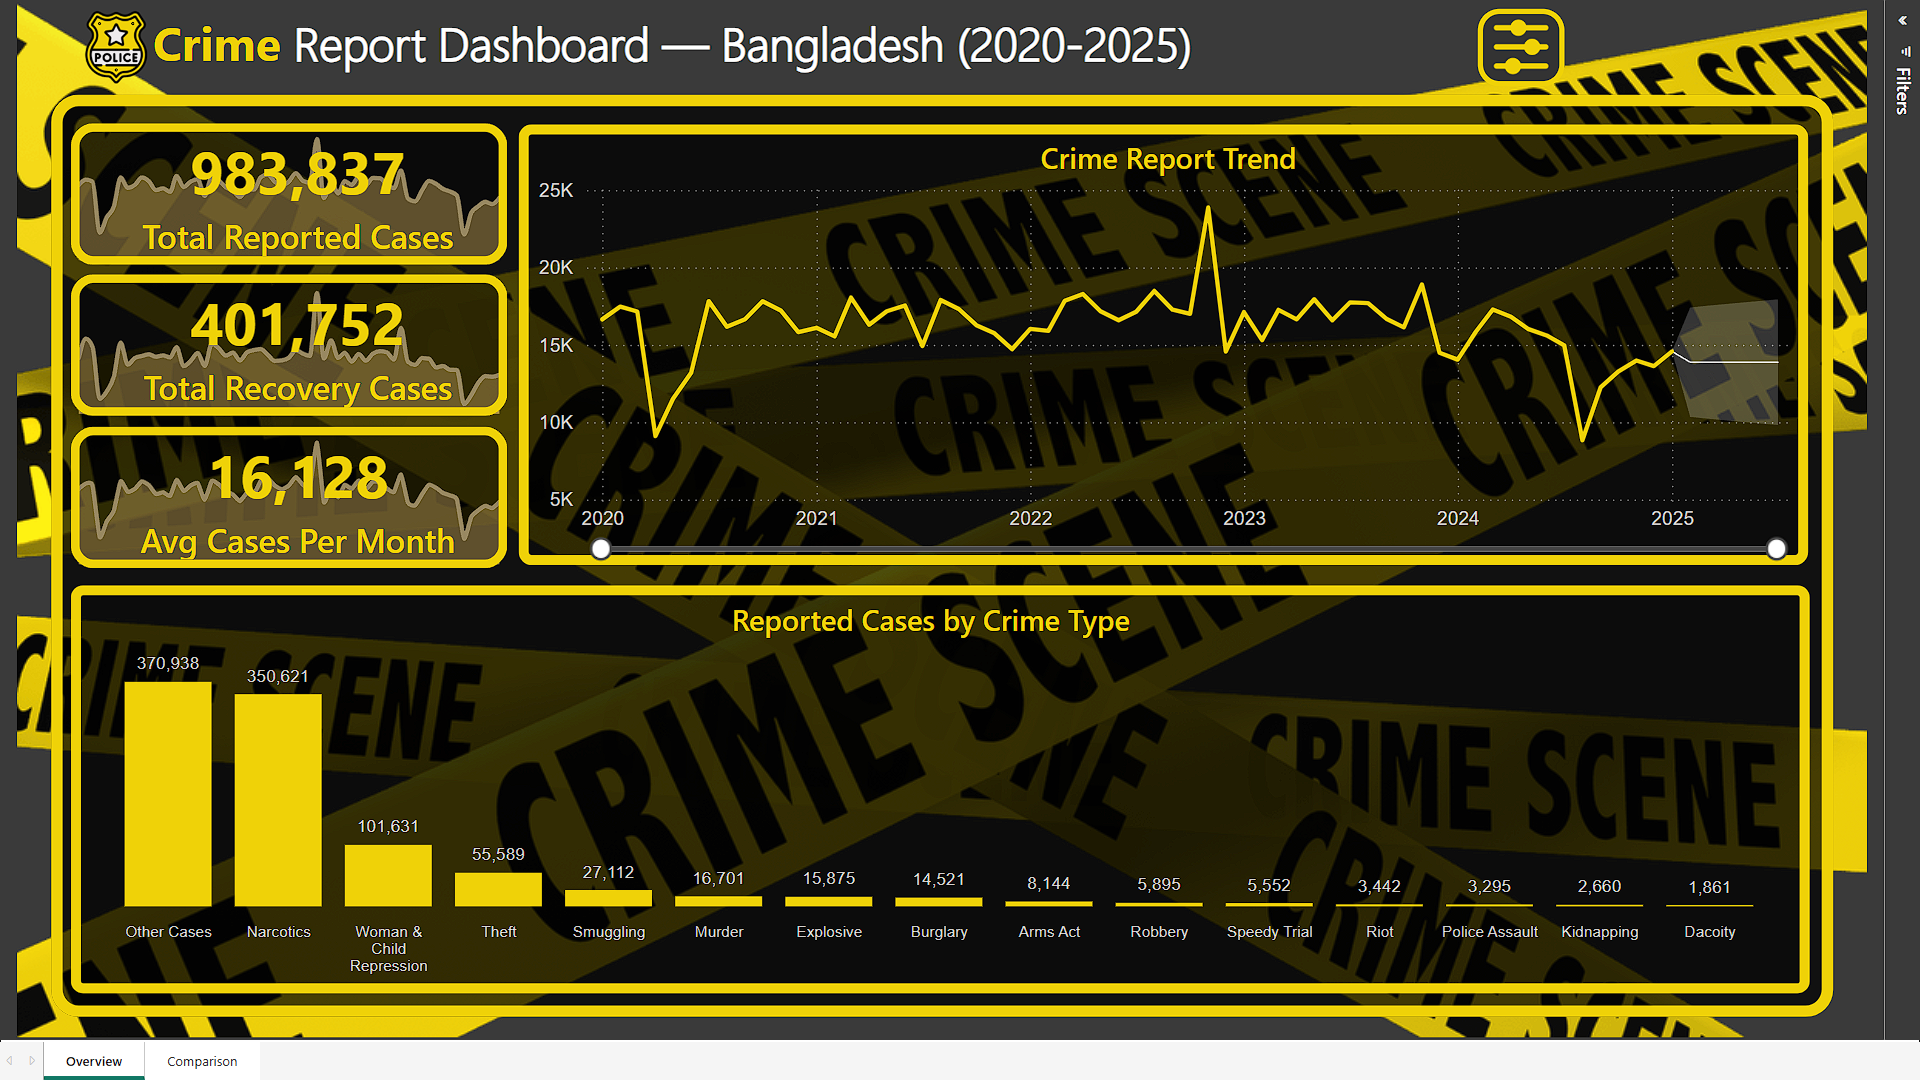

The page's visual inventory and layout, read from the dashboard file:
{"tool":"powerbi","page":{"name":"Overview","canvas":[1280,720],"ordinal":0},"visuals":[{"type":"group","id":"g1","title":"Group 1","box":[89.5,2.5,740,57.3],"z":0,"group":"g2"},{"type":"textbox","box":[89.5,2.5,740,57.3],"z":0,"group":"g1"},{"type":"shape","box":[23.3,65.8,1233.3,638.3],"z":0},{"type":"image","box":[37.5,2.6,62.2,60.6],"z":1000,"group":"g2"},{"type":"areaChart","fields":{"Category":["Date Table.Start of Month.Variation.Date Hierarchy.Year","Date Table.Start of Month.Variation.Date Hierarchy.Quarter","Date Table.Start of Month.Variation.Date Hierarchy.Month","Date Table.Start of Month.Variation.Date Hierarchy.Day"],"Y":["_Measure.Reported Cases"]},"box":[32.6,82.1,311.1,97.9],"z":1000},{"type":"areaChart","fields":{"Category":["Date Table.Start of Month.Variation.Date Hierarchy.Year","Date Table.Start of Month.Variation.Date Hierarchy.Quarter","Date Table.Start of Month.Variation.Date Hierarchy.Month","Date Table.Start of Month.Variation.Date Hierarchy.Day"],"Y":["_Measure.Recovery Cases"]},"box":[32.6,191.1,311.1,96.3],"z":2000},{"type":"areaChart","fields":{"Category":["Date Table.Start of Month.Variation.Date Hierarchy.Year","Date Table.Start of Month.Variation.Date Hierarchy.Quarter","Date Table.Start of Month.Variation.Date Hierarchy.Month","Date Table.Start of Month.Variation.Date Hierarchy.Day"],"Y":["_Measure.Avg Cases Per Month"]},"box":[32.6,292.6,311.1,98.4],"z":3000},{"type":"cardVisual","fields":{"Data":["_Measure.Reported Cases","_Measure.Recovery Cases","_Measure.Avg Cases Per Month"]},"box":[37.3,85.5,302.7,310.9],"z":4000},{"type":"shape","box":[347.5,85.8,892.5,305],"z":5000},{"type":"lineChart","title":"Crime Report Trend","fields":{"Category":["Date Table.Start of Month.Variation.Date Hierarchy.Year","Date Table.Start of Month.Variation.Date Hierarchy.Quarter","Date Table.Start of Month.Variation.Date Hierarchy.Month","Date Table.Start of Month.Variation.Date Hierarchy.Day"],"Y":["_Measure.Reported Cases"]},"box":[355.5,85.5,882.7,305.5],"z":6000},{"type":"shape","box":[37.5,405,1203.3,282.5],"z":7000},{"type":"columnChart","title":"Reported Cases by Crime Type","fields":{"Category":["Crime Statistics Of Bangladesh 2020-25.Crime Type"],"Y":["_Measure.Reported Cases"]},"box":[32.3,404.7,1200.8,272.3],"z":7500},{"type":"image","box":[1010.9,6.4,60,53.6],"z":8000},{"type":"group","id":"g2","title":"Group 3","box":[37.5,2.5,792.5,60.8],"z":9000}]}

Visuals, with their boxes on the page's 1280x720 design canvas (x1, y1, x2, y2). These are canvas units, not pixel positions in the 1920x1080 screenshot, which may show the page scaled, cropped or inside an application window:
"Group 1" group: Rect(90, 2, 830, 60)
textbox: Rect(90, 2, 830, 60)
shape: Rect(23, 66, 1257, 704)
image: Rect(38, 3, 100, 63)
areaChart - Date Table.Start of Month.Variation.Date Hierarchy.Year x Date Table.Start of Month.Variation.Date Hierarchy.Quarter: Rect(33, 82, 344, 180)
areaChart - Date Table.Start of Month.Variation.Date Hierarchy.Year x Date Table.Start of Month.Variation.Date Hierarchy.Quarter: Rect(33, 191, 344, 287)
areaChart - Date Table.Start of Month.Variation.Date Hierarchy.Year x Date Table.Start of Month.Variation.Date Hierarchy.Quarter: Rect(33, 293, 344, 391)
cardVisual - _Measure.Reported Cases x _Measure.Recovery Cases: Rect(37, 86, 340, 396)
shape: Rect(348, 86, 1240, 391)
"Crime Report Trend" lineChart: Rect(356, 86, 1238, 391)
shape: Rect(38, 405, 1241, 688)
"Reported Cases by Crime Type" columnChart: Rect(32, 405, 1233, 677)
image: Rect(1011, 6, 1071, 60)
"Group 3" group: Rect(38, 2, 830, 63)
